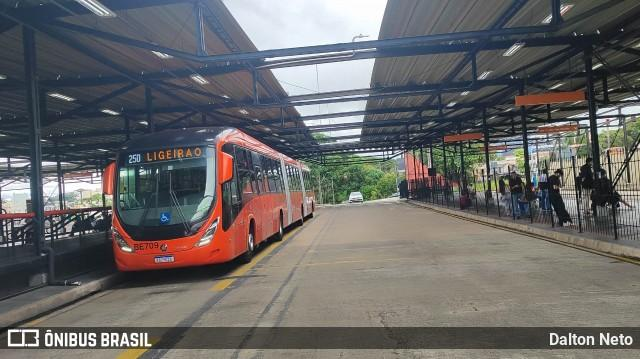LIGEIRAO: (144, 144, 205, 164)
